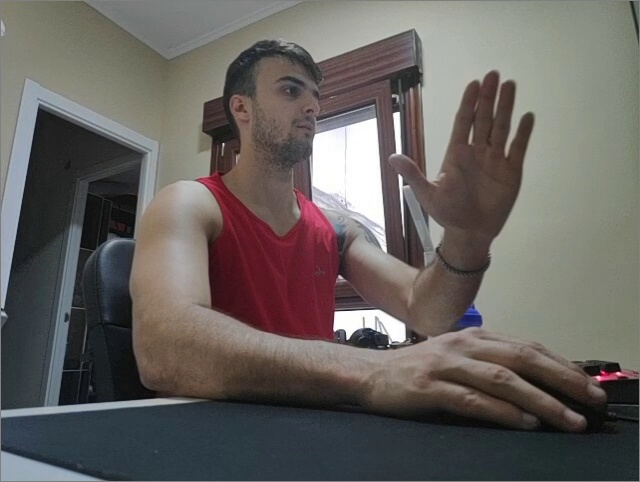Palm: (387, 69, 536, 240)
